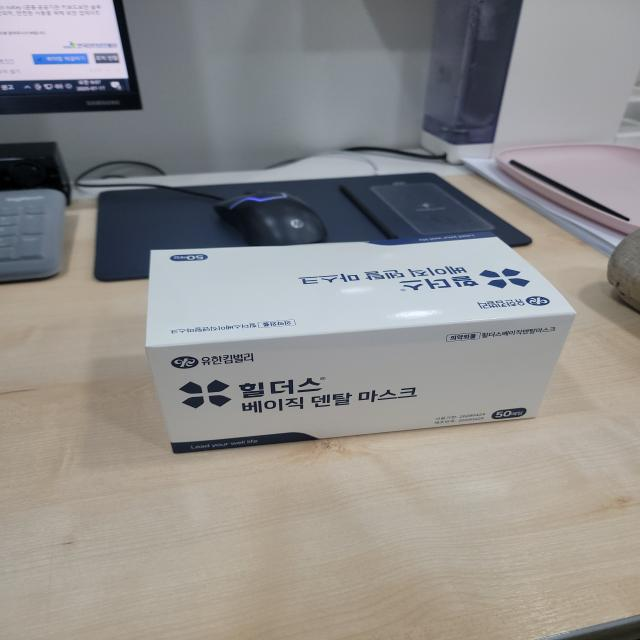mask: (110, 224, 637, 479)
